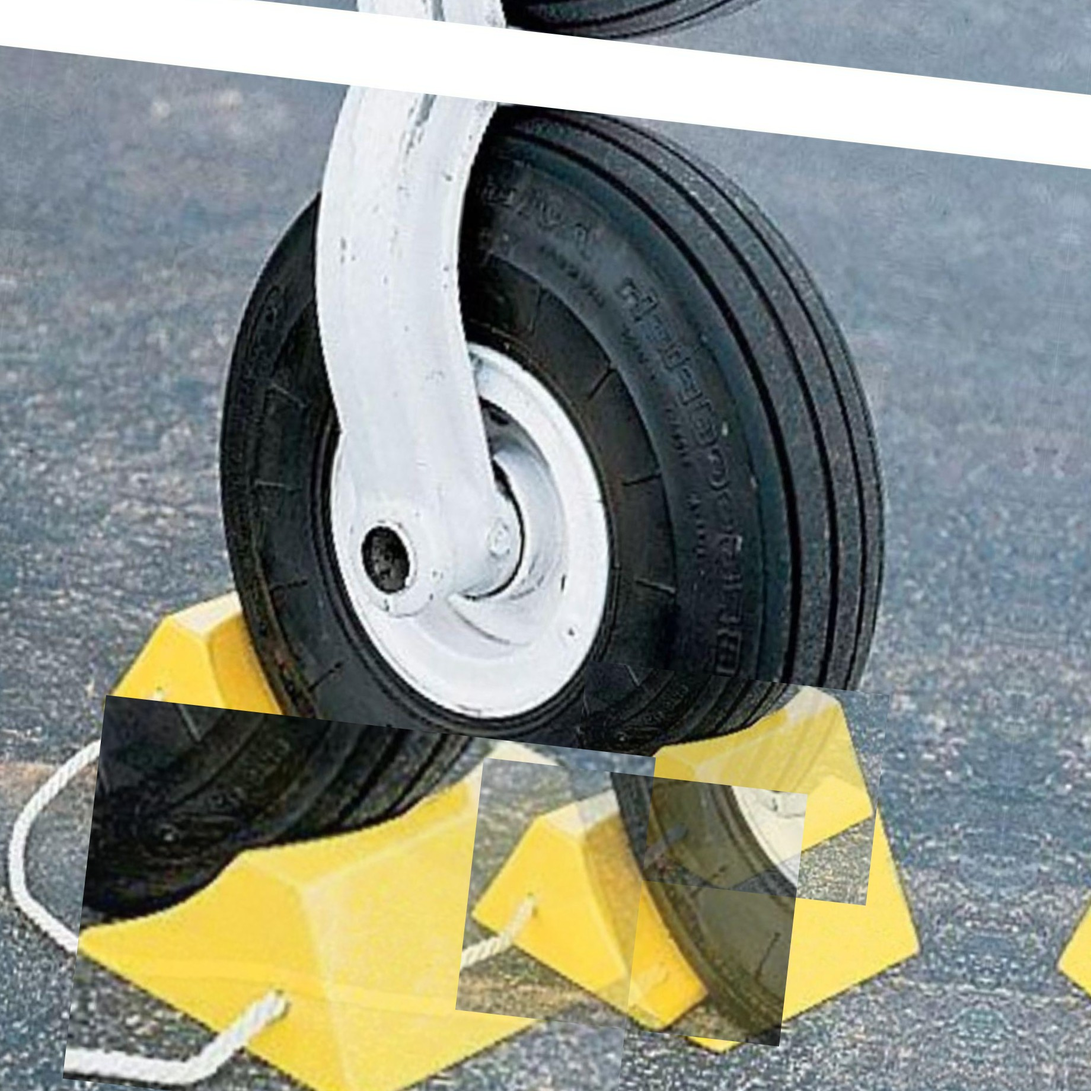chock: (63, 695, 656, 1091), (501, 743, 941, 1074), (455, 758, 808, 1046), (89, 562, 417, 830), (564, 661, 890, 906)
wheel: (163, 75, 933, 947)
